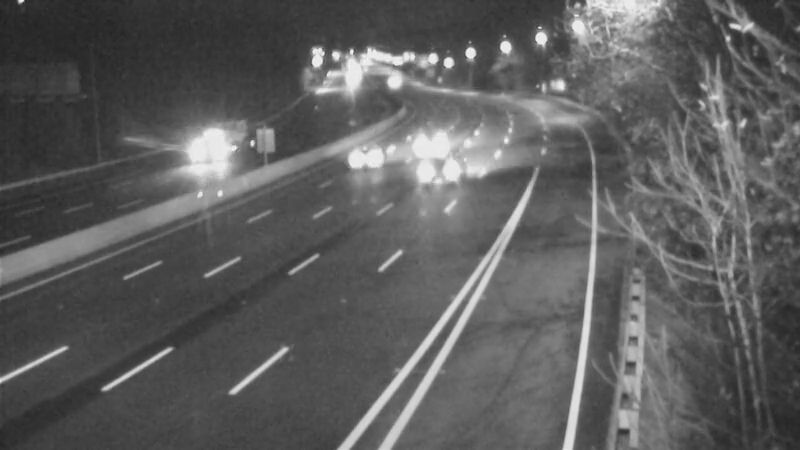vehicle: (326, 117, 406, 197), (398, 128, 478, 208), (366, 60, 416, 110), (400, 117, 450, 167), (184, 123, 234, 173)
